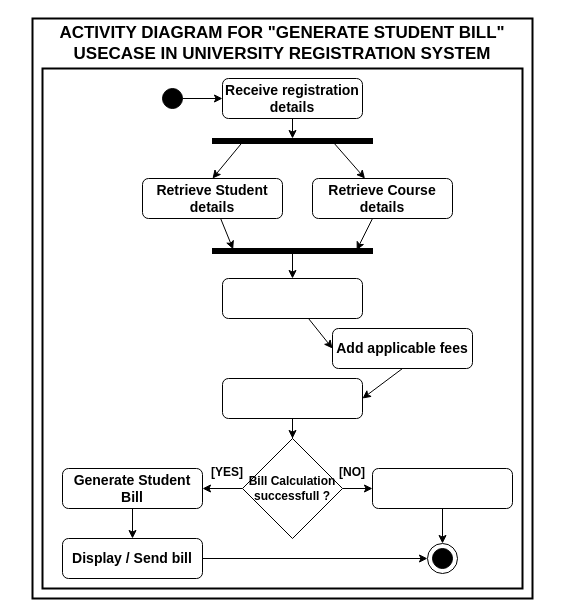
The diagram is 564 pixels wide and 616 high, and some of its shapes have lost their labels. The shapes that lost their labels are listed below. From the top down, each one's centre as x and y in pixels, then its label:
point (292, 298): Calculate Course fees
point (292, 398): Calculate Total amount
point (442, 488): Show error
